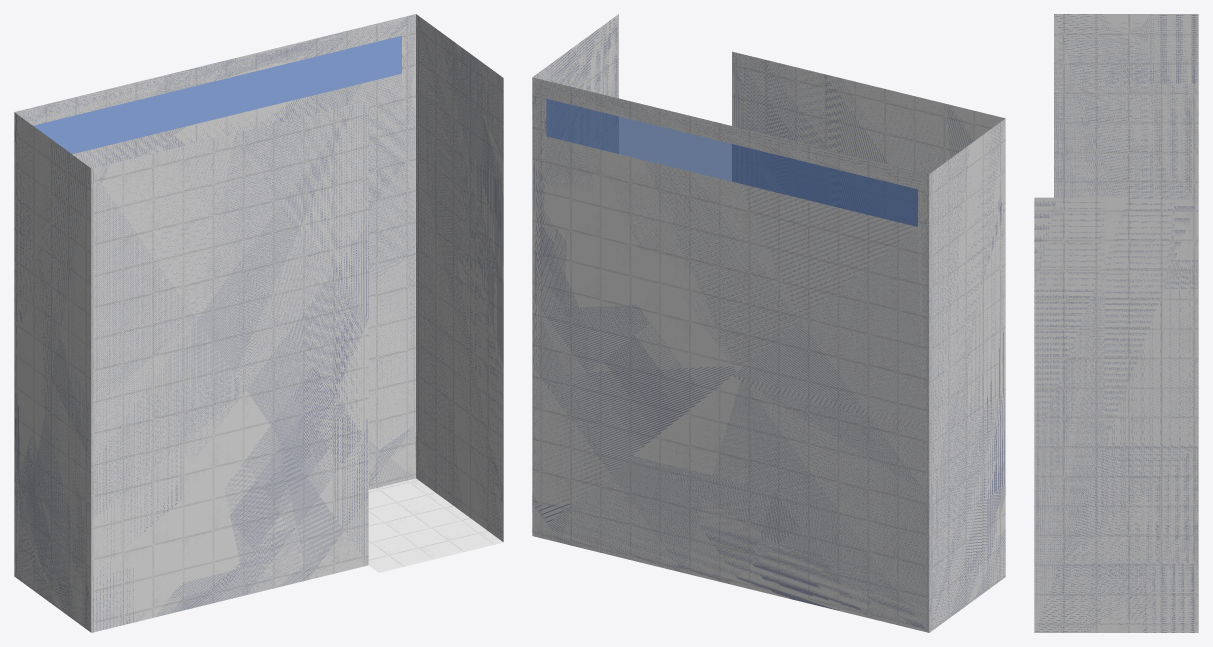
The model's file is CUA014.obj.
3 renders of one model, left to right at view 1: azimuth 30°, elevation 25°; view 2: azimuth 150°, elevation 25°; view 3: azimuth 270°, elevation 25°, orthographic. The views are drawn at different scales.
Visible parts, largest first — view 1: Mesh1 CUA014 Model; view 2: Mesh1 CUA014 Model; view 3: Mesh1 CUA014 Model.
Part boxes in pixels (x1,y1,x2,y2): Mesh1 CUA014 Model: (14,14,503,632); Mesh1 CUA014 Model: (532,14,1005,632); Mesh1 CUA014 Model: (1034,14,1198,632).
Size of the model in its own units: 2.71 by 3 by 1.02.
4 materials, 1 textured.
